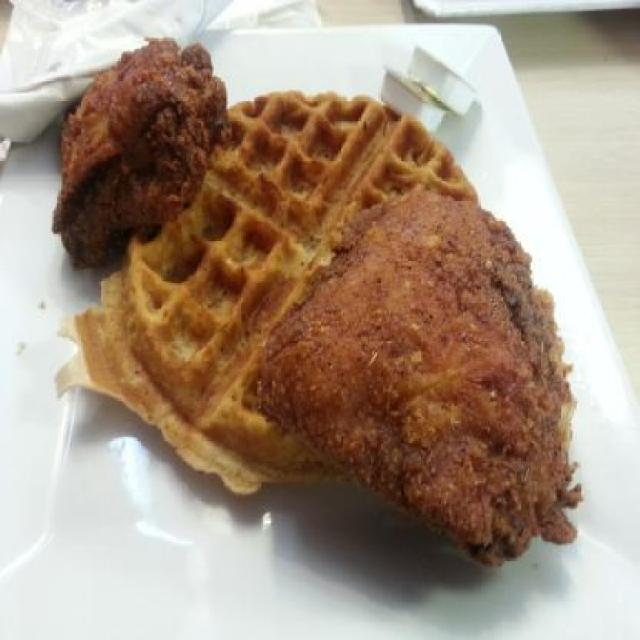Waffle: (54, 86, 483, 500), (53, 86, 478, 503)
